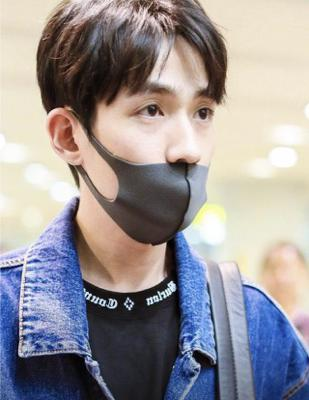mask_weared_incorrect: (97, 80, 219, 247)
